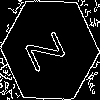Z: (25, 25, 73, 73)
